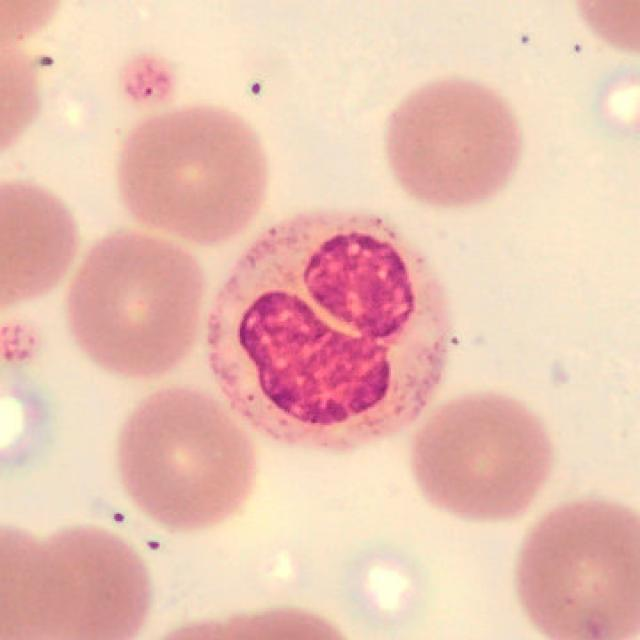Neutrofilo segmentado: (206, 212, 457, 452)
